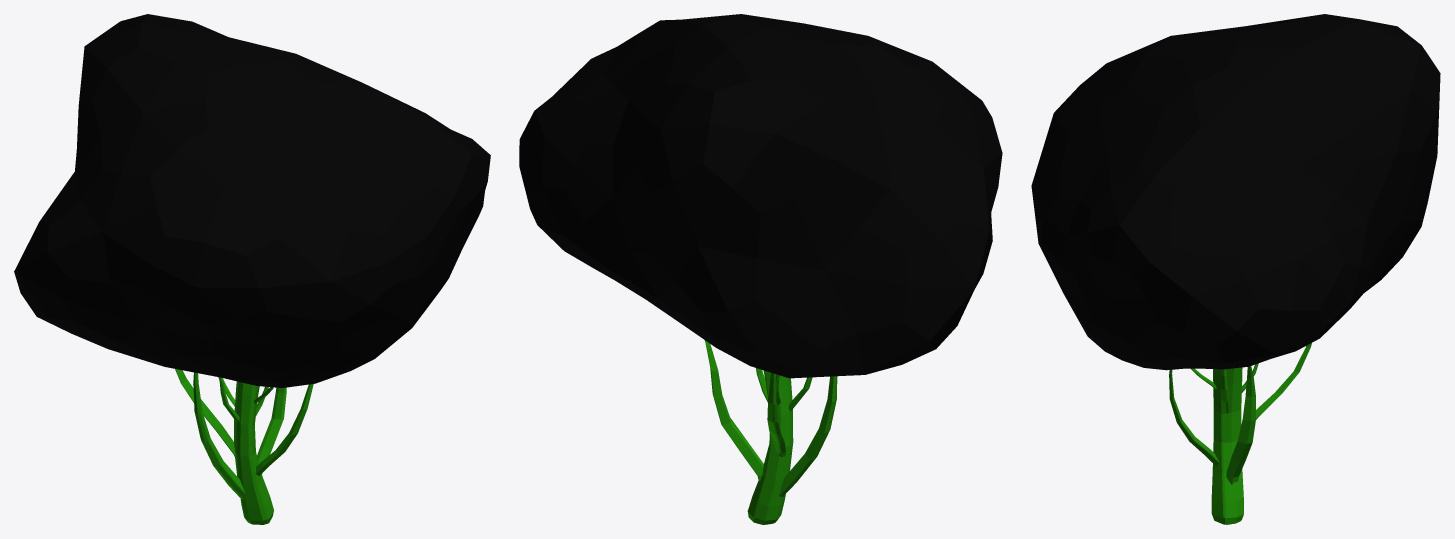
File: Bush_EM.fbx
The picture shows the model from 3 angles, left to right: view 1: azimuth 30°, elevation 25°; view 2: azimuth 150°, elevation 25°; view 3: azimuth 270°, elevation 25°; orthographic projection. The views are drawn at different scales.
Visible parts, largest first — view 1: Bush_EM; view 2: Bush_EM; view 3: Bush_EM.
Part boxes in pixels (x1=…): Bush_EM: x1=14, y1=14, x2=490, y2=524; Bush_EM: x1=519, y1=14, x2=1002, y2=524; Bush_EM: x1=1031, y1=14, x2=1440, y2=524.
Size of the model in its own units: 302 by 308 by 240.
